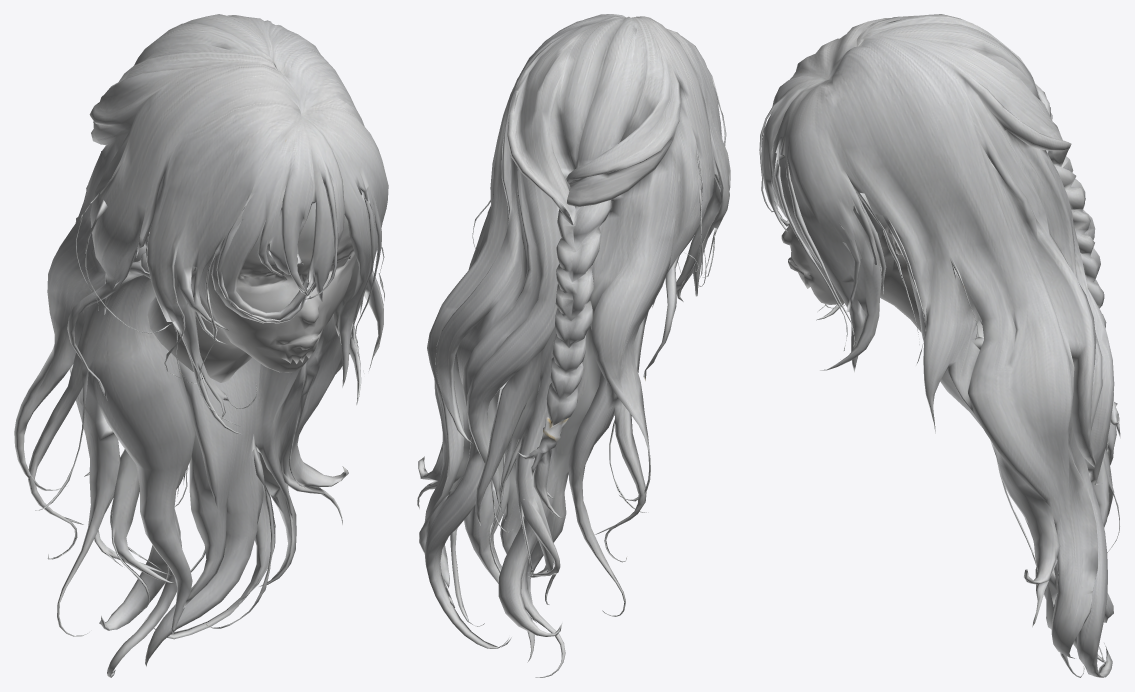
File: hair-6.glb
The picture shows the model from 3 angles, left to right: view 1: azimuth 30°, elevation 25°; view 2: azimuth 150°, elevation 25°; view 3: azimuth 270°, elevation 25°; orthographic projection. The views are drawn at different scales.
Size of the model in its own units: 0.4297 by 0.9512 by 0.481.
1 material, 1 textured.
